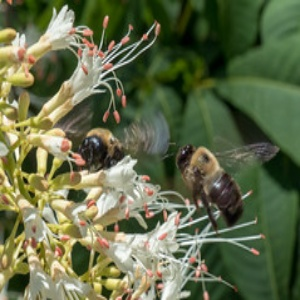bee: (174, 141, 284, 234), (80, 123, 158, 175)
